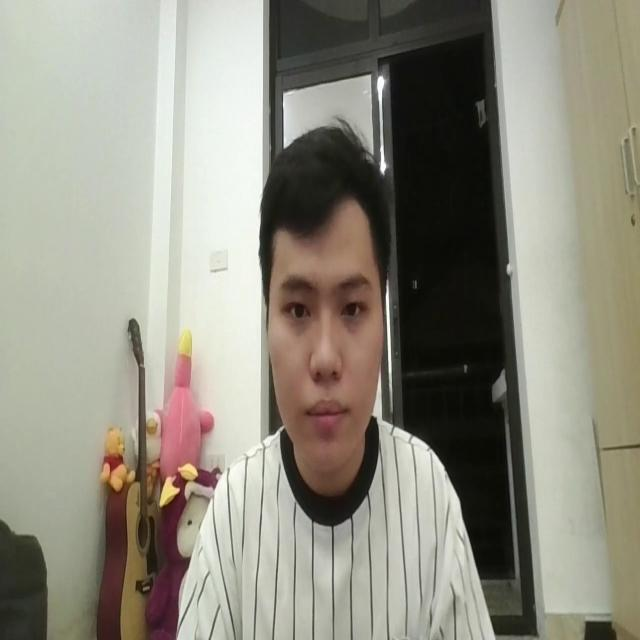student: (178, 122, 498, 640)
